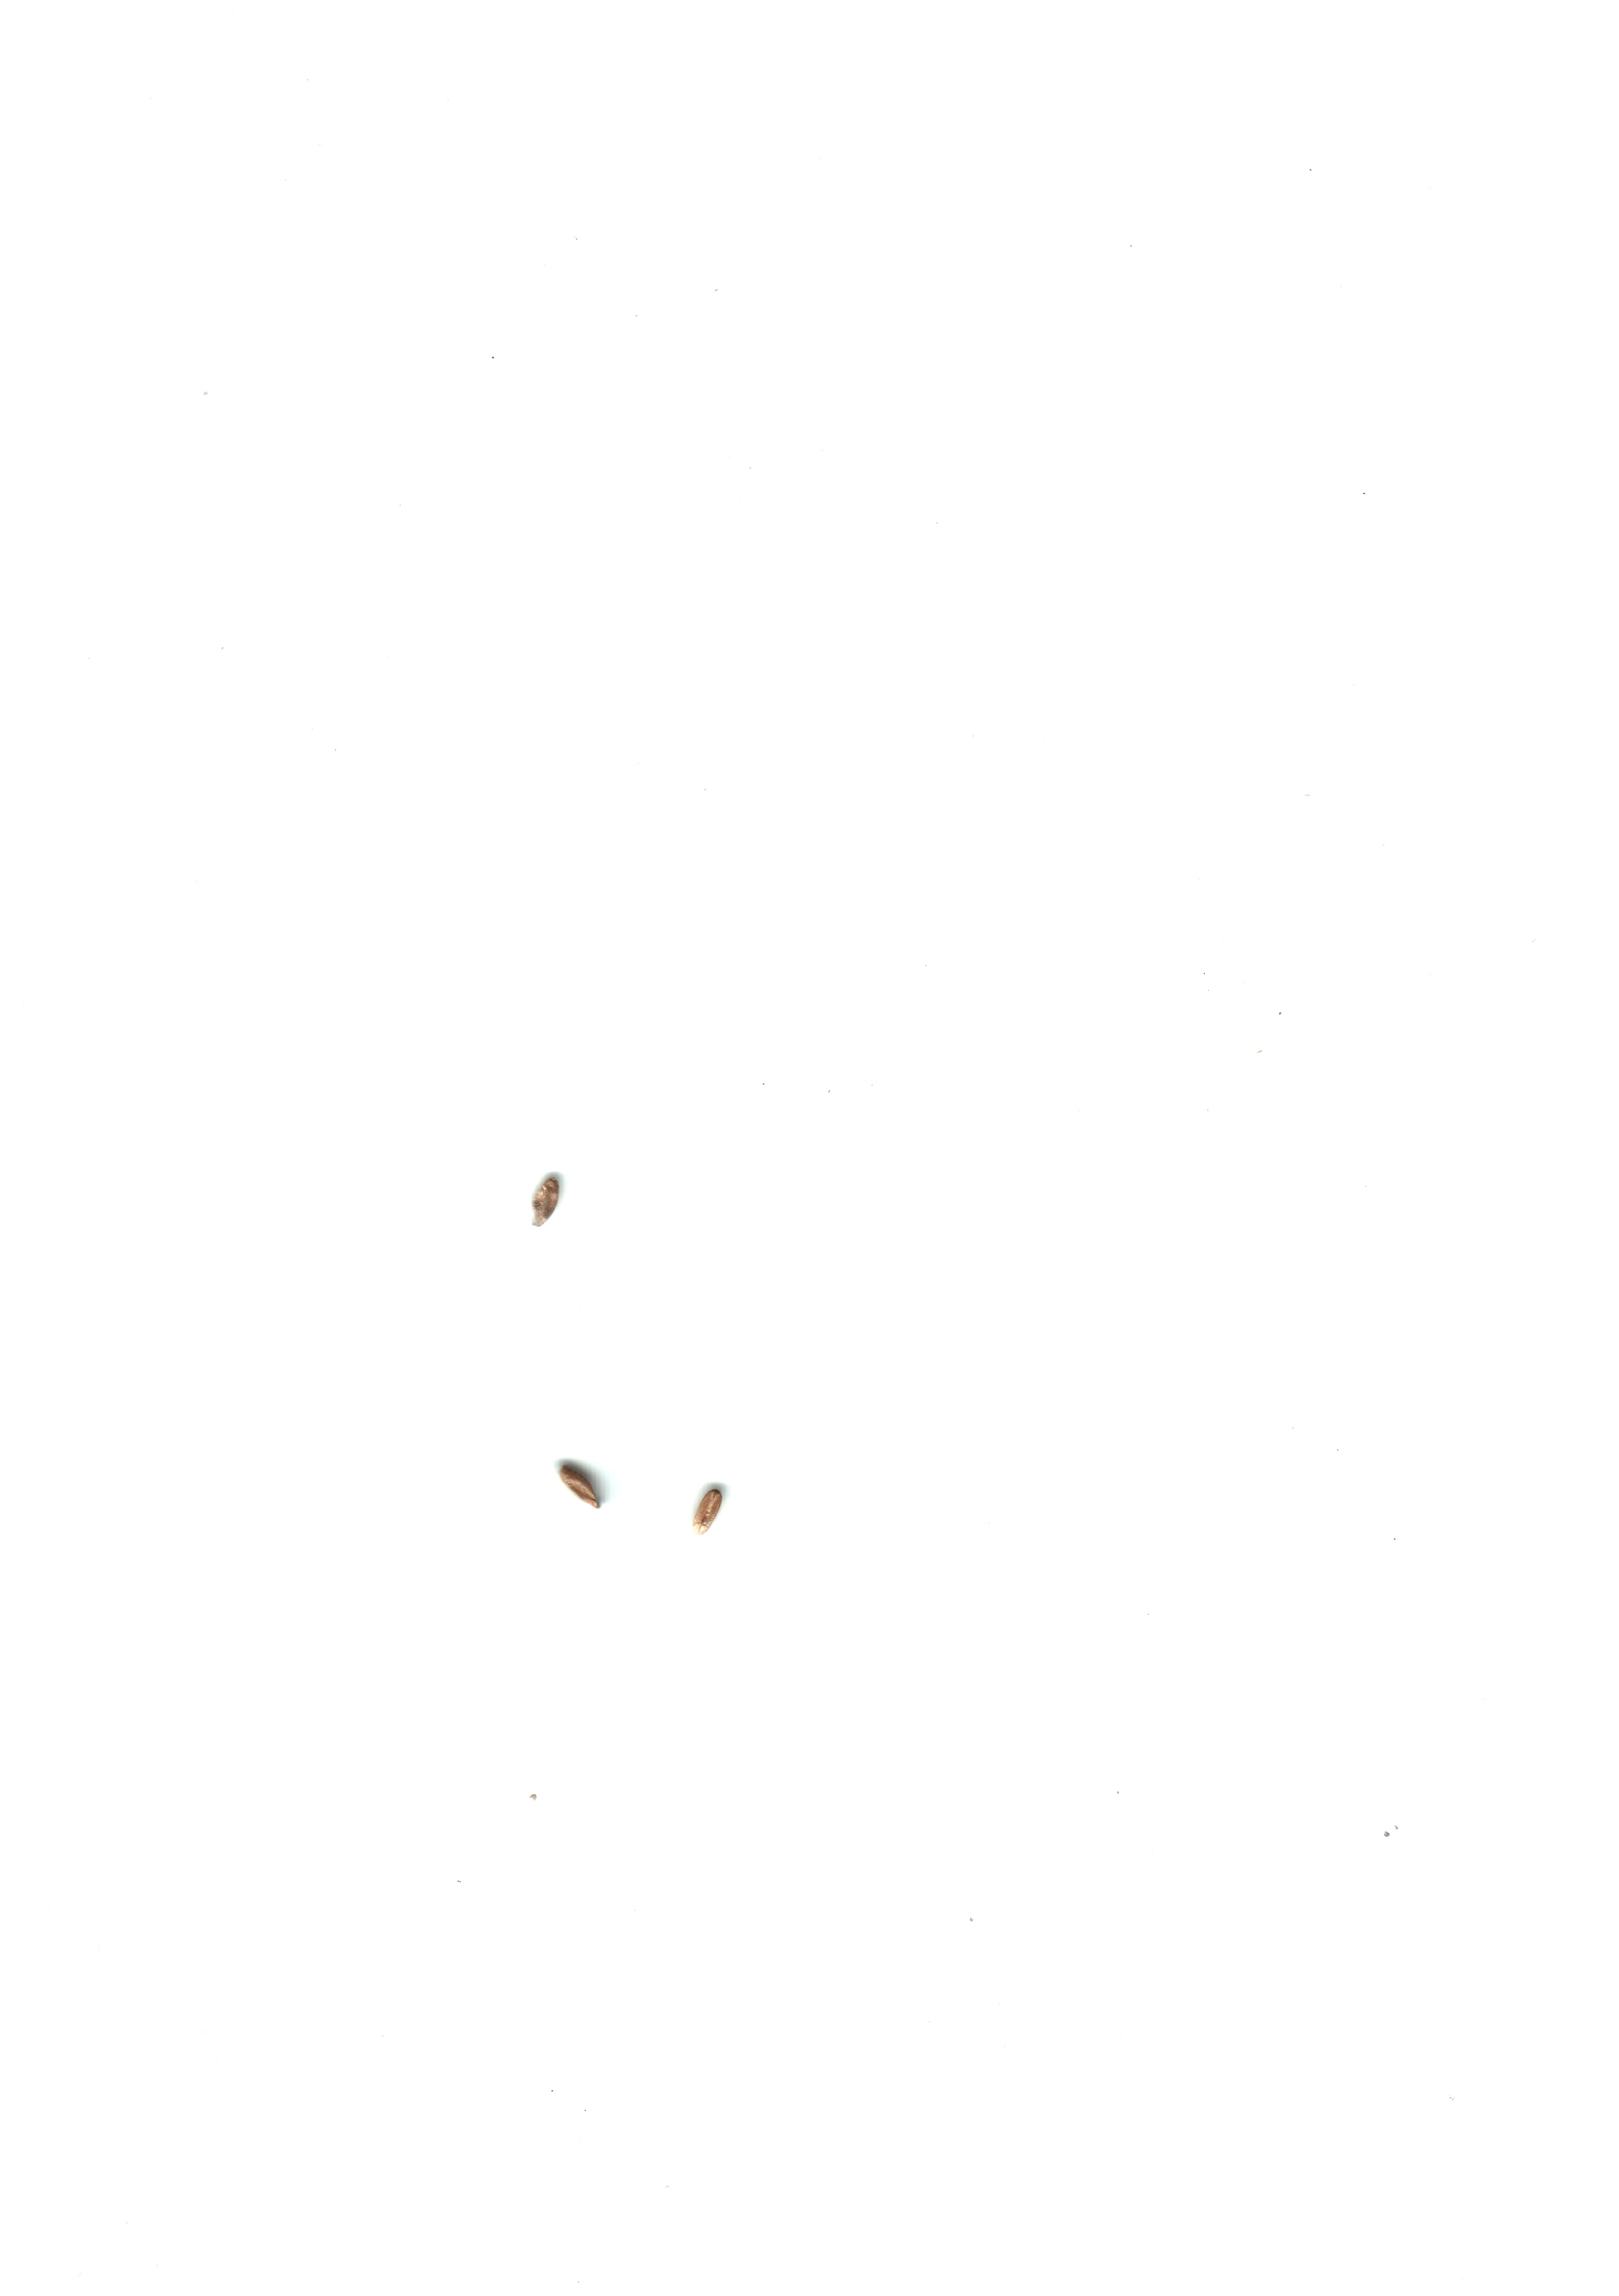grains_2_5mm: (508, 1157, 589, 1246), (543, 1439, 624, 1528), (678, 1456, 759, 1546)
